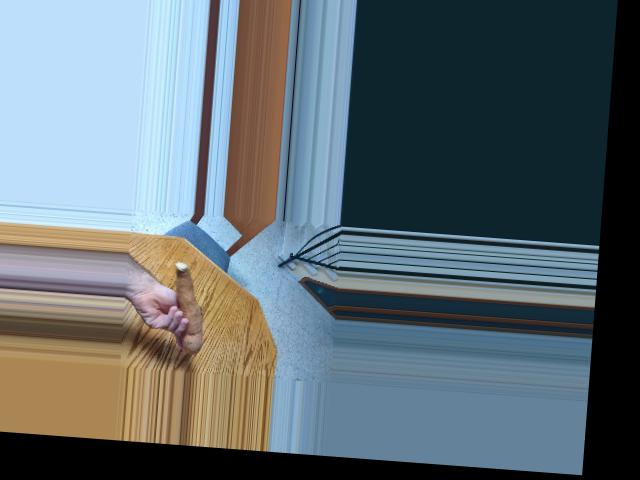sweet_potato: (165, 265, 211, 350)
